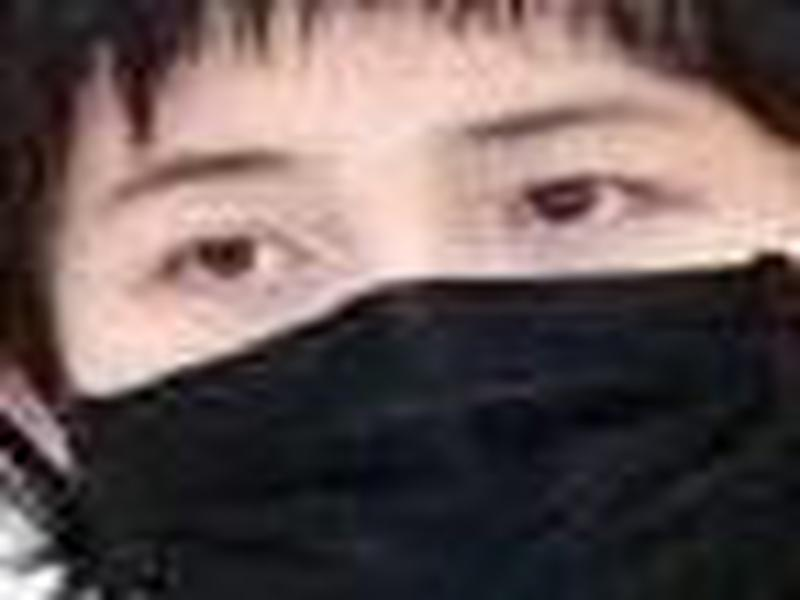with_mask: (18, 5, 791, 600)
